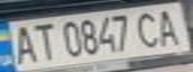0: (57, 17, 84, 59)
4: (97, 12, 118, 54)
7: (109, 11, 136, 52)
8: (78, 16, 100, 56)
A: (151, 6, 187, 47), (6, 21, 39, 65)
C: (133, 8, 163, 48)
T: (27, 20, 60, 62)
